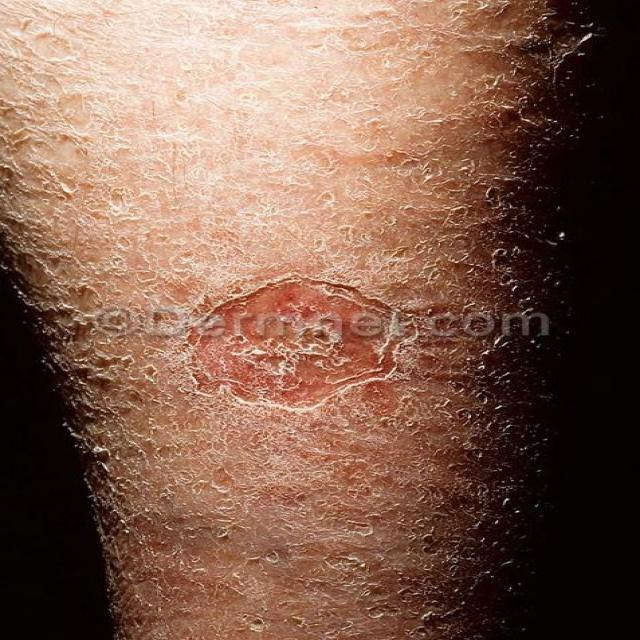Eczema: (0, 2, 572, 636)
